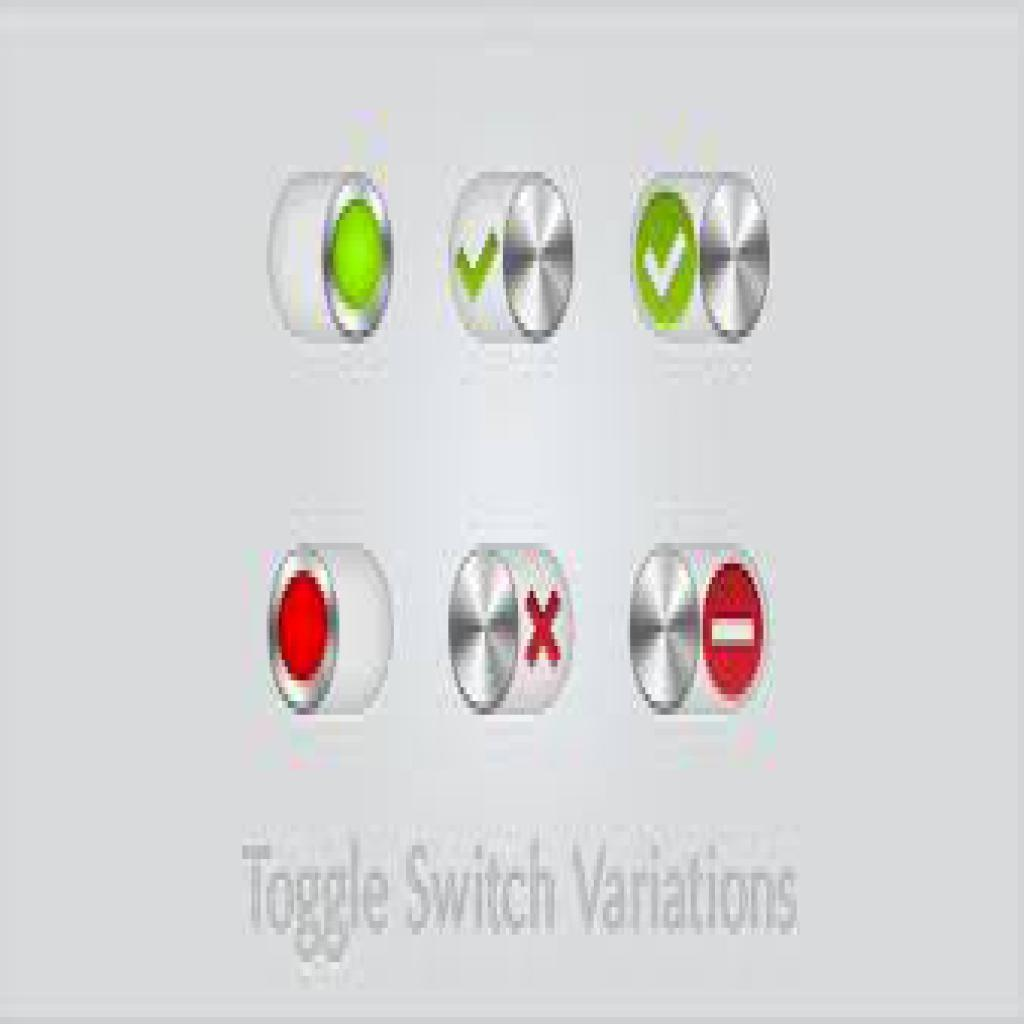switch: (629, 545, 768, 715), (631, 173, 771, 340), (443, 174, 577, 340), (269, 543, 396, 716), (263, 178, 392, 342), (452, 546, 573, 718)
